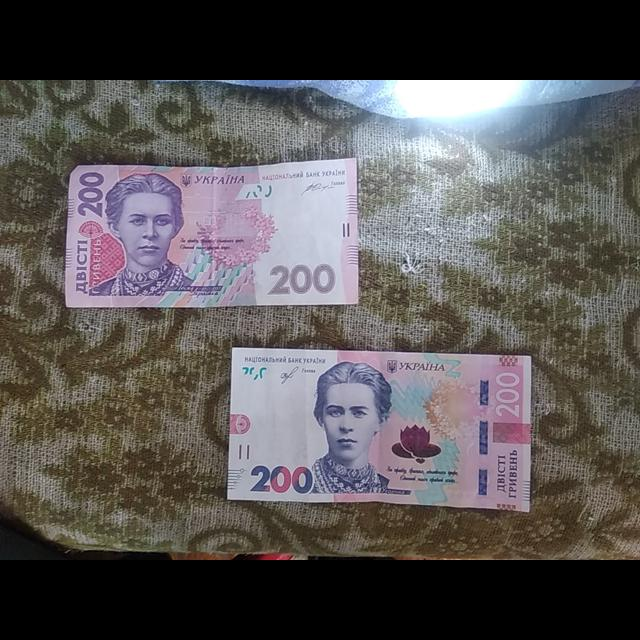200uah: (229, 347, 532, 512), (64, 156, 359, 309)
